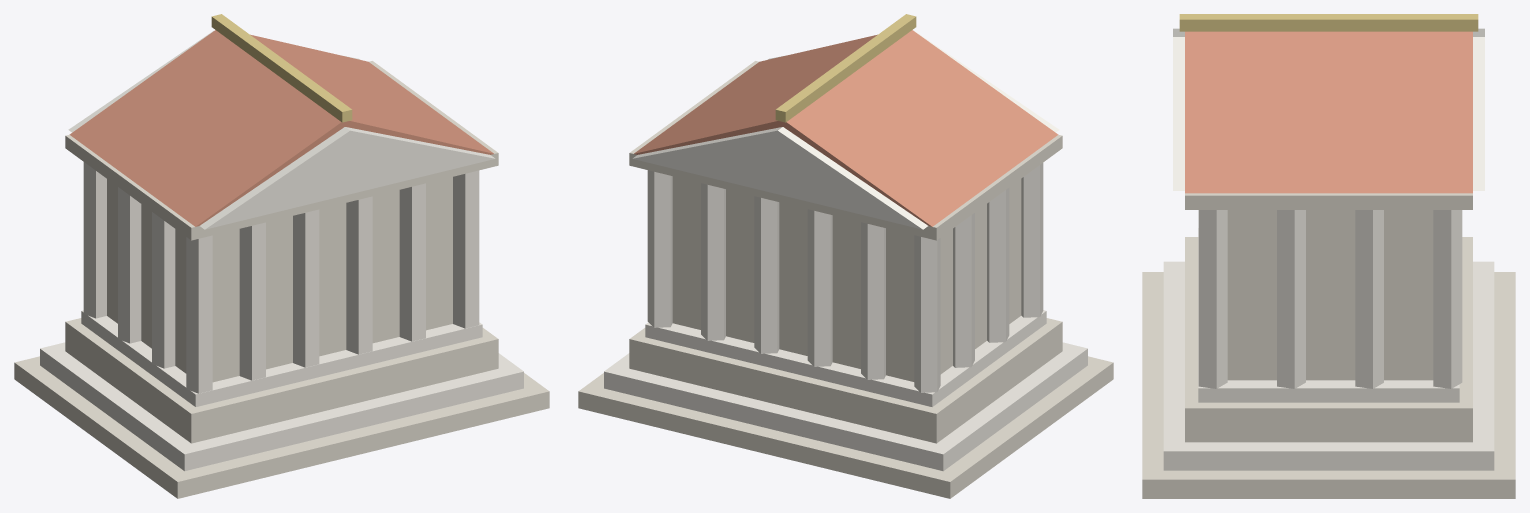
The model's file is temple.glb.
3 renders of one model, left to right at view 1: azimuth 30°, elevation 25°; view 2: azimuth 150°, elevation 25°; view 3: azimuth 270°, elevation 25°, orthographic. The views are drawn at different scales.
Visible parts, largest first — view 1: classical_temple; view 2: classical_temple; view 3: classical_temple.
Part boxes in pixels (x1,y1,x2,y2): classical_temple: (14, 14, 549, 498); classical_temple: (578, 14, 1113, 498); classical_temple: (1142, 14, 1515, 498).
Bounding box in the file's own units: 0.92 × 0.7822 × 0.7.
